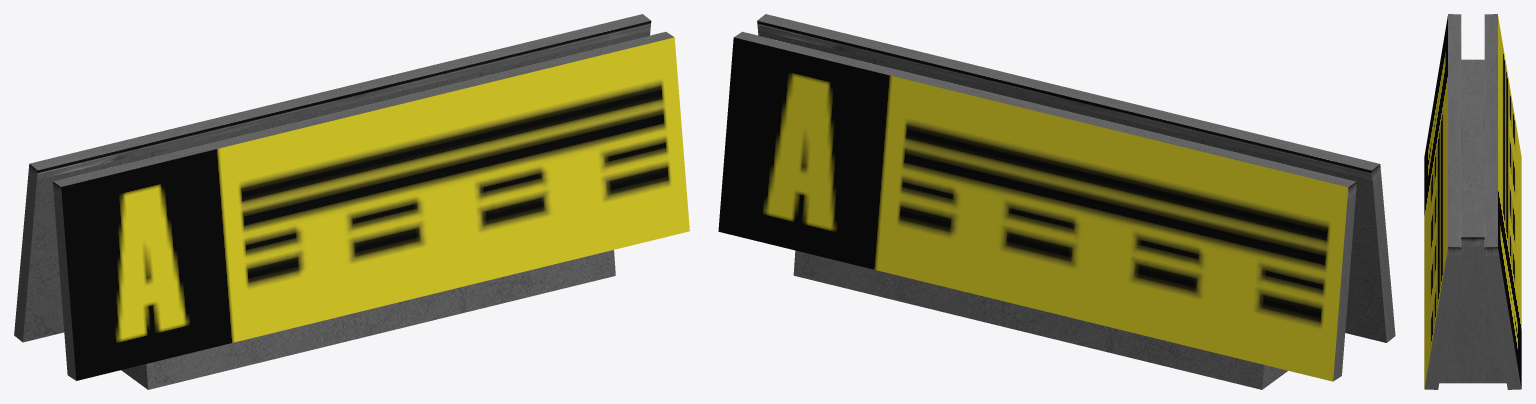
File: sign_e.FBX
The picture shows the model from 3 angles, left to right: view 1: azimuth 30°, elevation 25°; view 2: azimuth 150°, elevation 25°; view 3: azimuth 270°, elevation 25°; orthographic projection. The views are drawn at different scales.
Parts seen in each view (by area): view 1: sign_e; view 2: sign_e; view 3: sign_e.
Part boxes in pixels (x1,y1,x2,y2): sign_e: (14, 14, 689, 389); sign_e: (718, 14, 1395, 389); sign_e: (1424, 14, 1521, 389).
Bounding box in the file's own units: 10.67 × 3.5 × 1.88.
